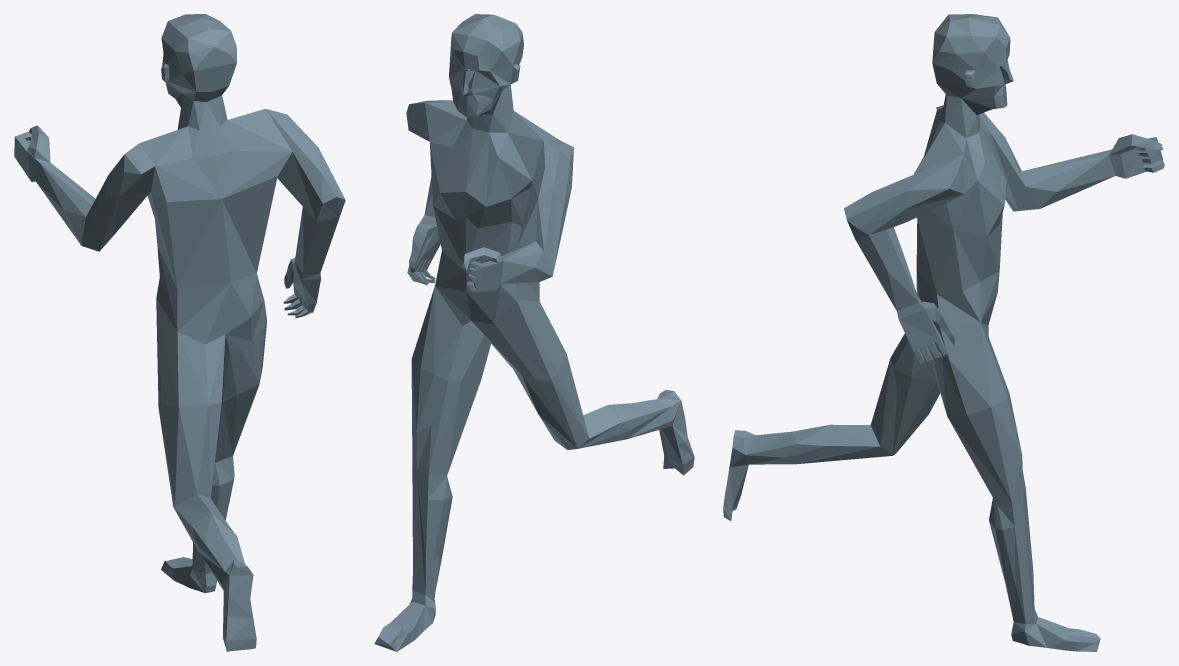
The model's file is Running Man.glb.
The picture shows the model from 3 angles, left to right: view 1: azimuth 30°, elevation 25°; view 2: azimuth 150°, elevation 25°; view 3: azimuth 270°, elevation 25°; orthographic projection. The views are drawn at different scales.
Visible parts, largest first — view 1: group1502195547; view 2: group1502195547; view 3: group1502195547.
Part boxes in pixels (x1,y1,x2,y2): group1502195547: (14, 14, 345, 651); group1502195547: (374, 14, 694, 651); group1502195547: (723, 14, 1164, 651).
Size of the model in its own units: 1.19 by 3.72 by 2.43.
